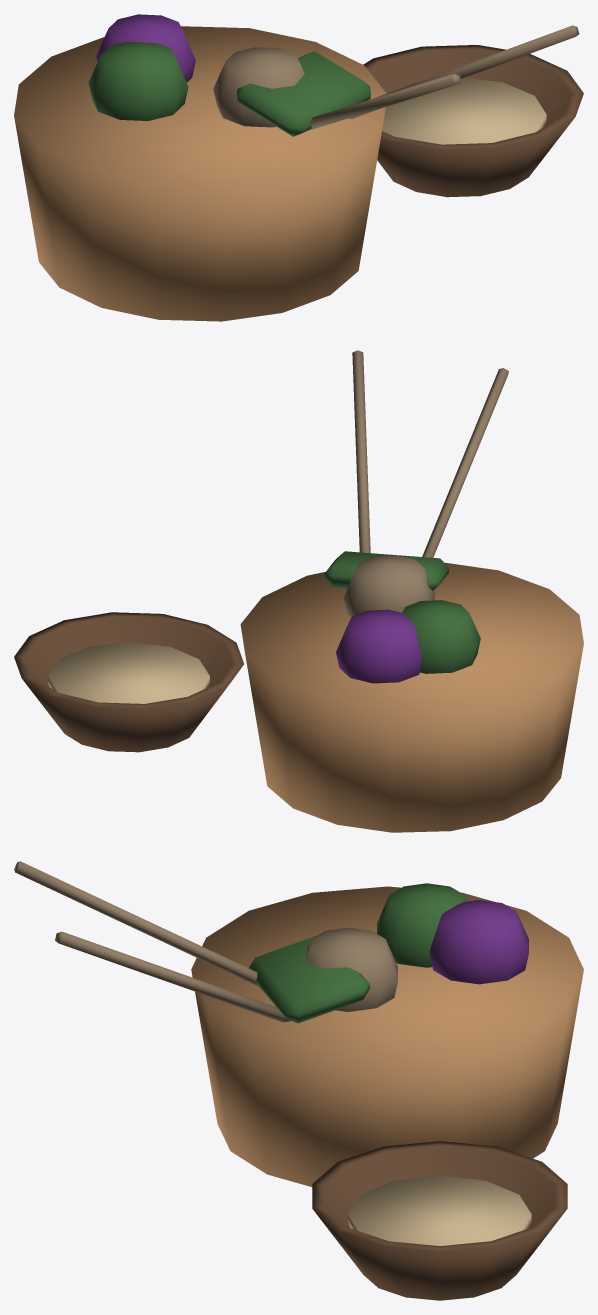
The model's file is knitting_basket.glb.
The picture shows the model from 3 angles, top to bottom: view 1: azimuth 30°, elevation 25°; view 2: azimuth 150°, elevation 25°; view 3: azimuth 270°, elevation 25°; orthographic projection. The views are drawn at different scales.
Visible parts, largest first — view 1: knitting_basket; view 2: knitting_basket; view 3: knitting_basket.
Part boxes in pixels (x1,y1,x2,y2): knitting_basket: (14,14,583,321); knitting_basket: (14,350,583,832); knitting_basket: (14,861,583,1300).
Size of the model in its own units: 0.51 by 0.2543 by 0.4354.
